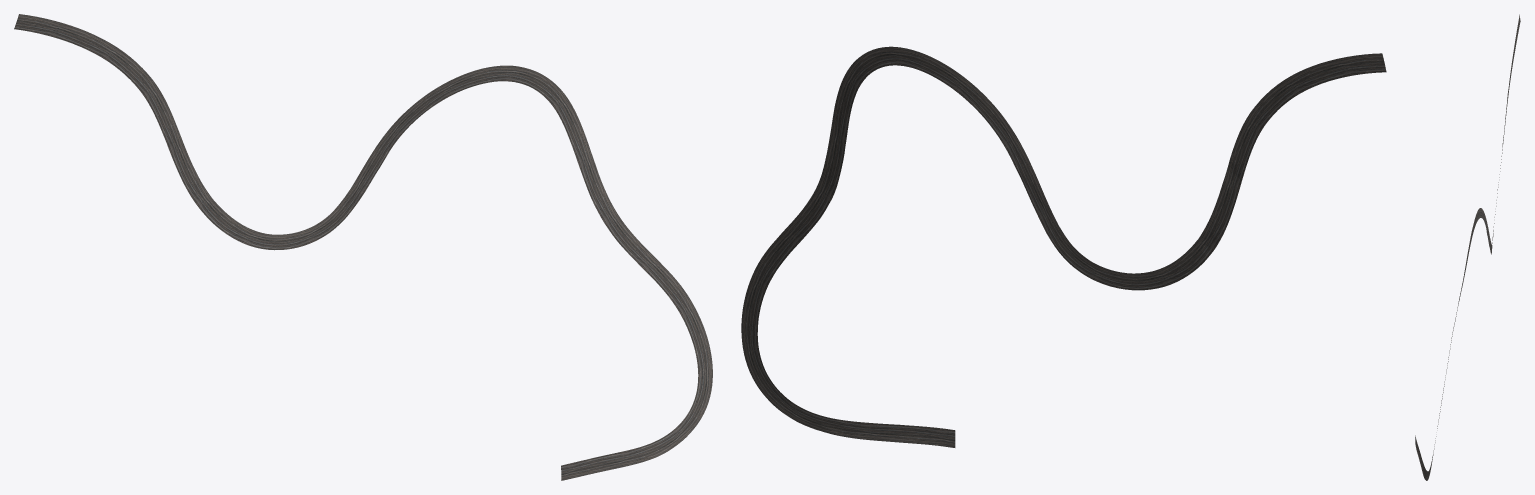
The picture shows the model from 3 angles, left to right: view 1: azimuth 30°, elevation 25°; view 2: azimuth 150°, elevation 25°; view 3: azimuth 270°, elevation 25°; orthographic projection. The views are drawn at different scales.
Size of the model in its own units: 144 by 114 by 35.8.
1 material, 1 textured.
